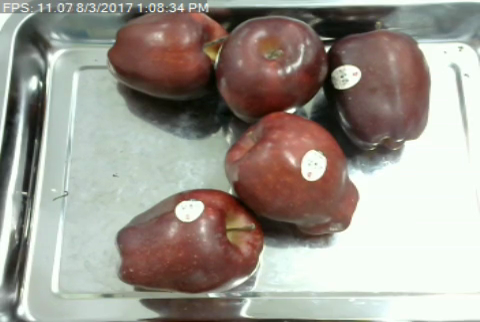Apple: (221, 109, 362, 239), (112, 186, 269, 296), (211, 13, 333, 127), (322, 26, 433, 151), (104, 8, 238, 104)
